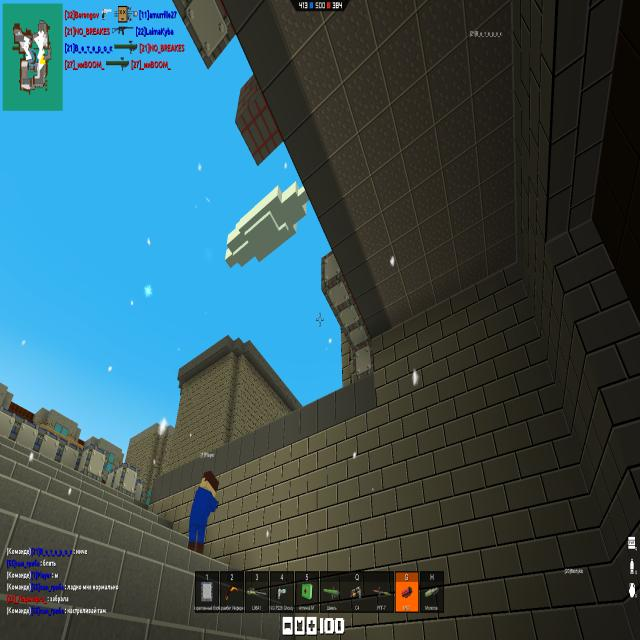player: (188, 469, 218, 554)
